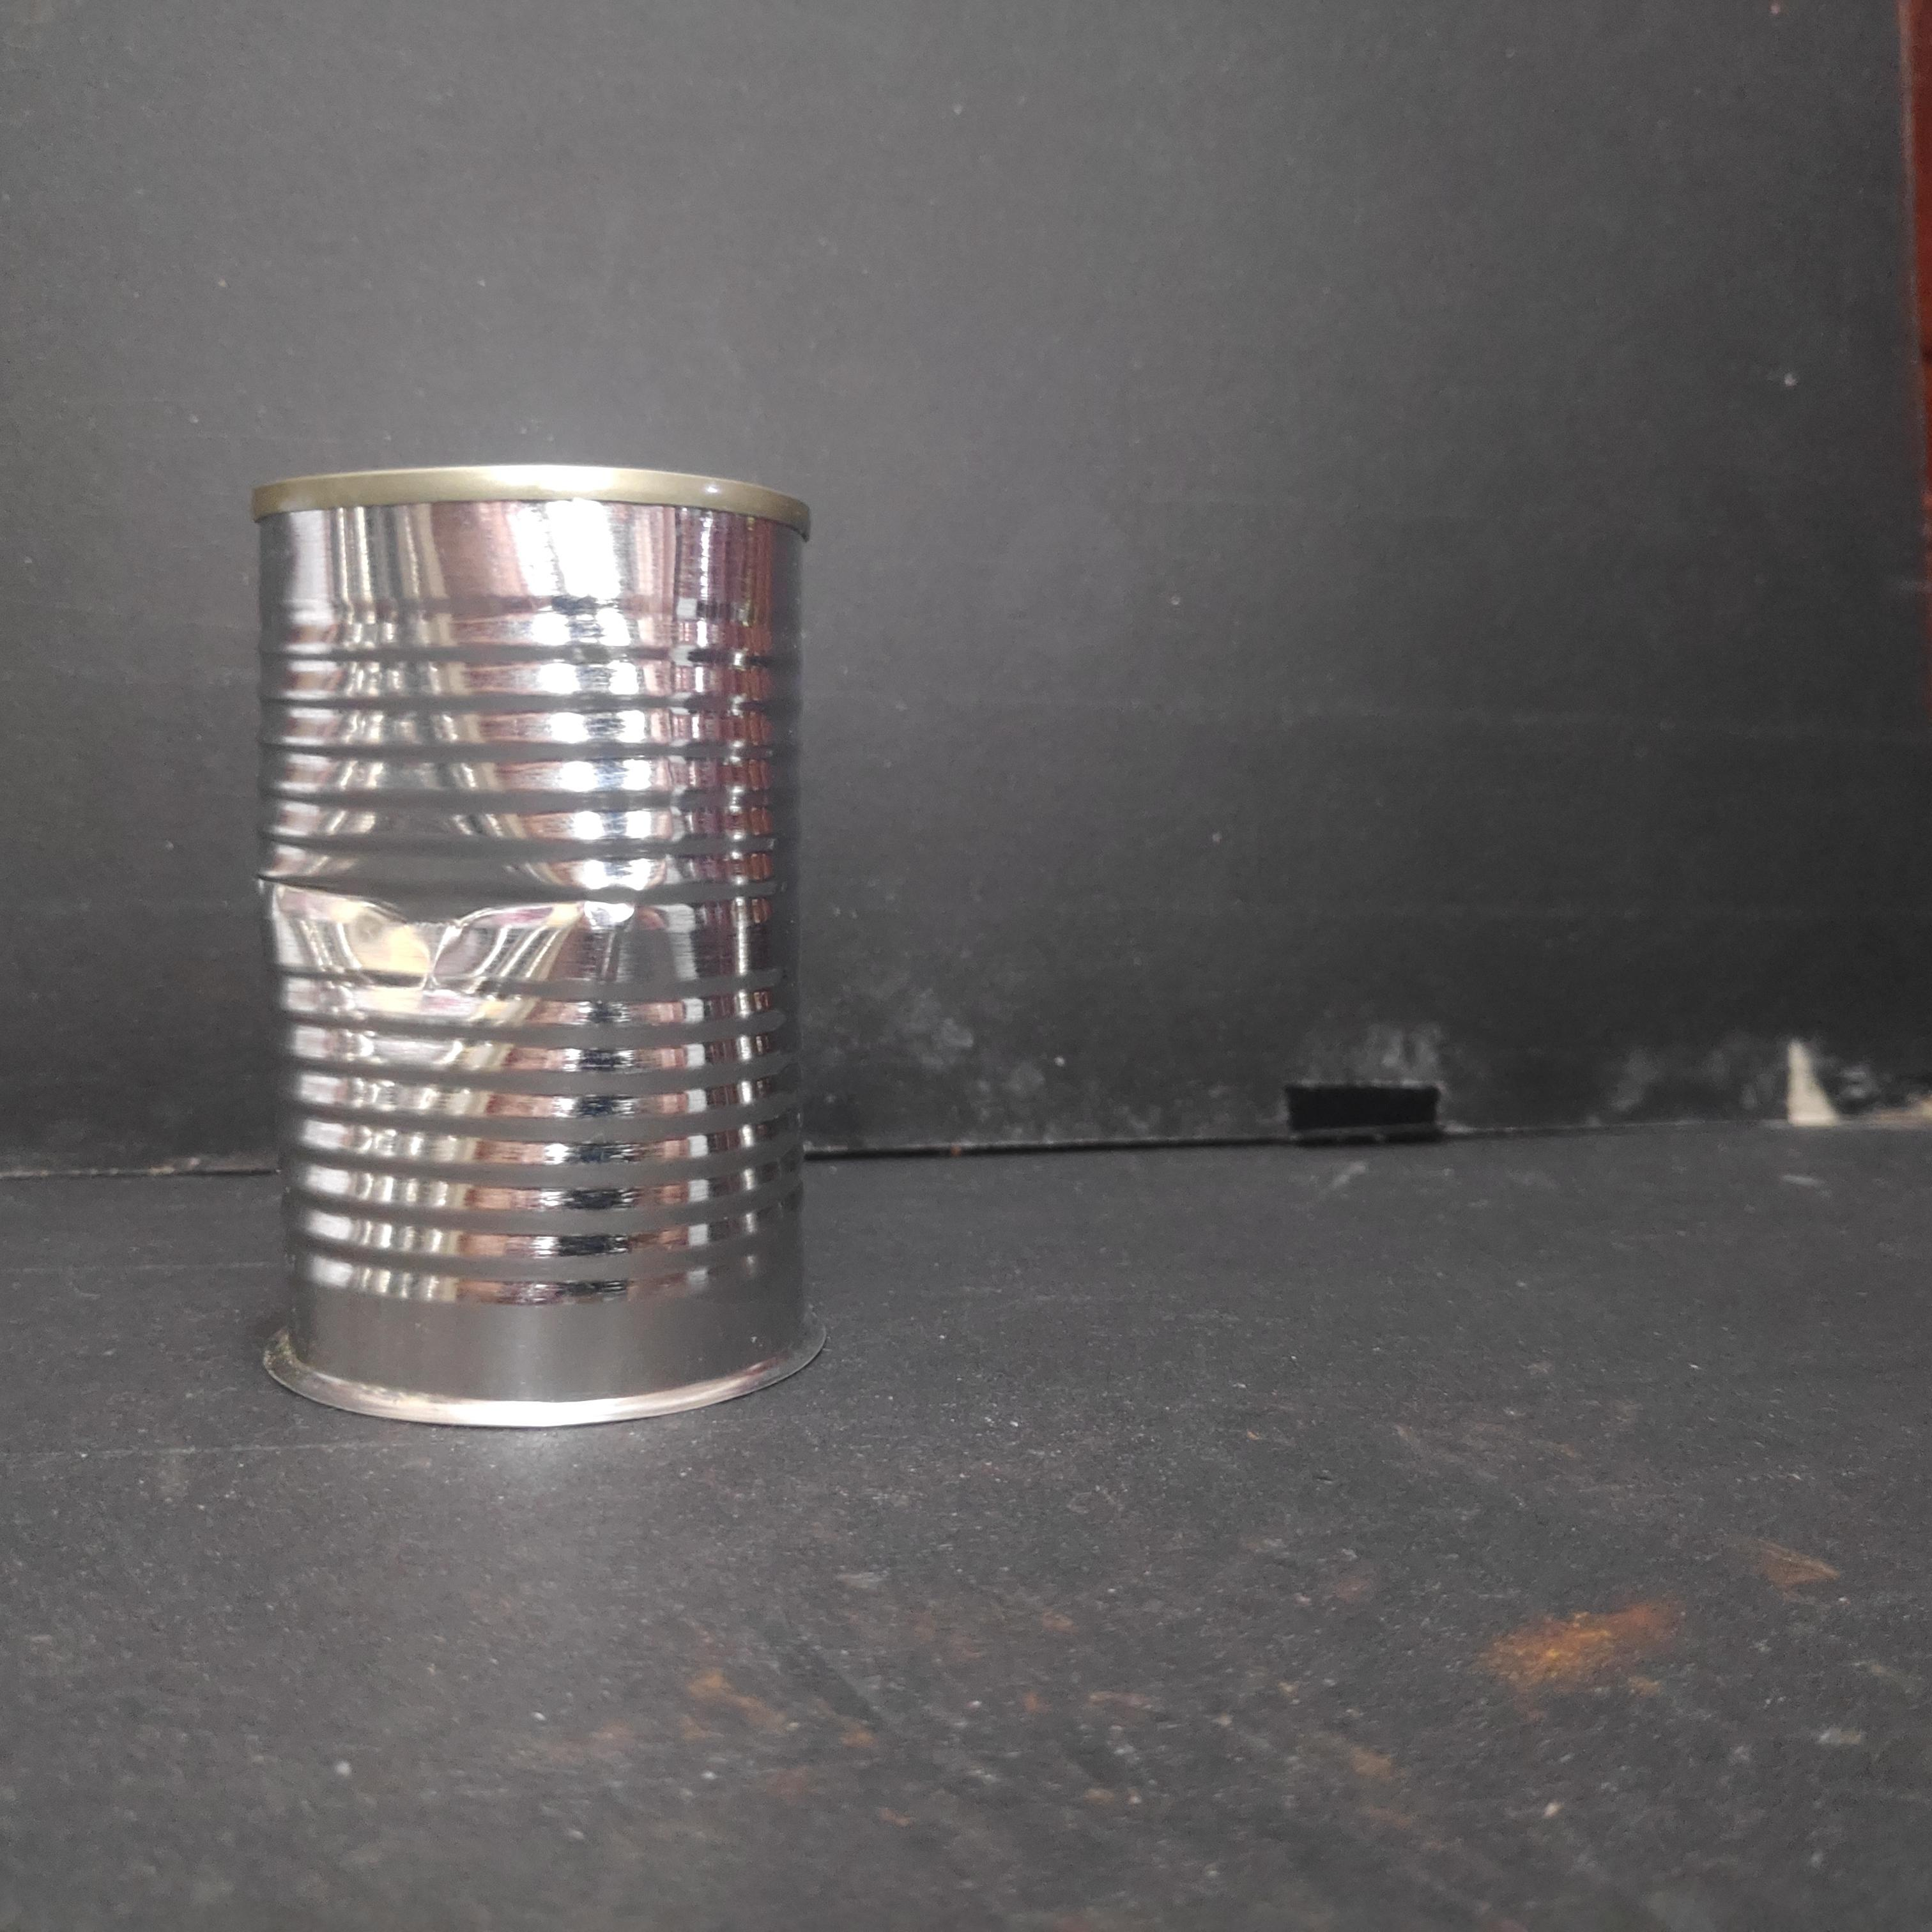Minor Defect: (234, 458, 826, 1437)
